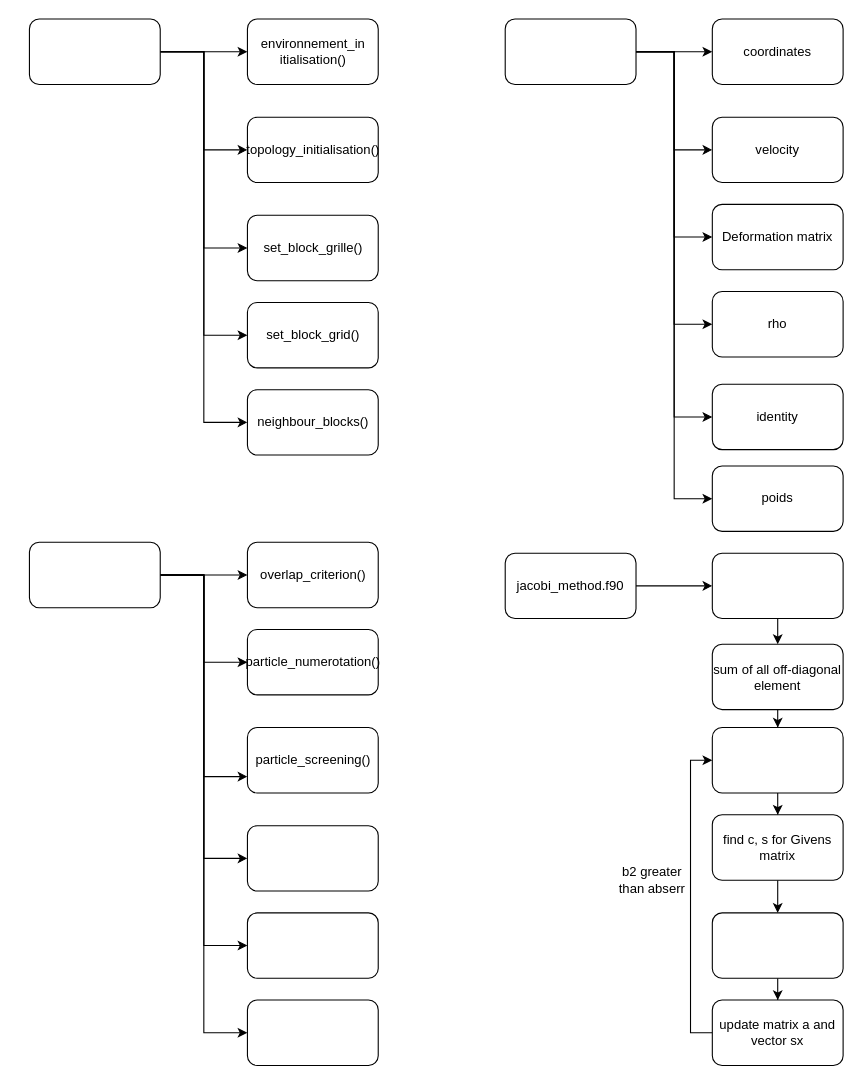
The diagram is 862 pixels wide and 1085 high, and some of its shapes have lost their labels. The centre of each missing label's shape, as x and y in pixels:
average off-diagonal /2: the point at 777,759
initialize x(i,i) =1, x(i,,j) =0: the point at 777,585
mod_particle_2D.f90: the point at 570,51
MPI_2D_spatialisation.f90: the point at 94,51
MPI_structures.f90: the point at 94,574
remake rows i, j: the point at 777,945
